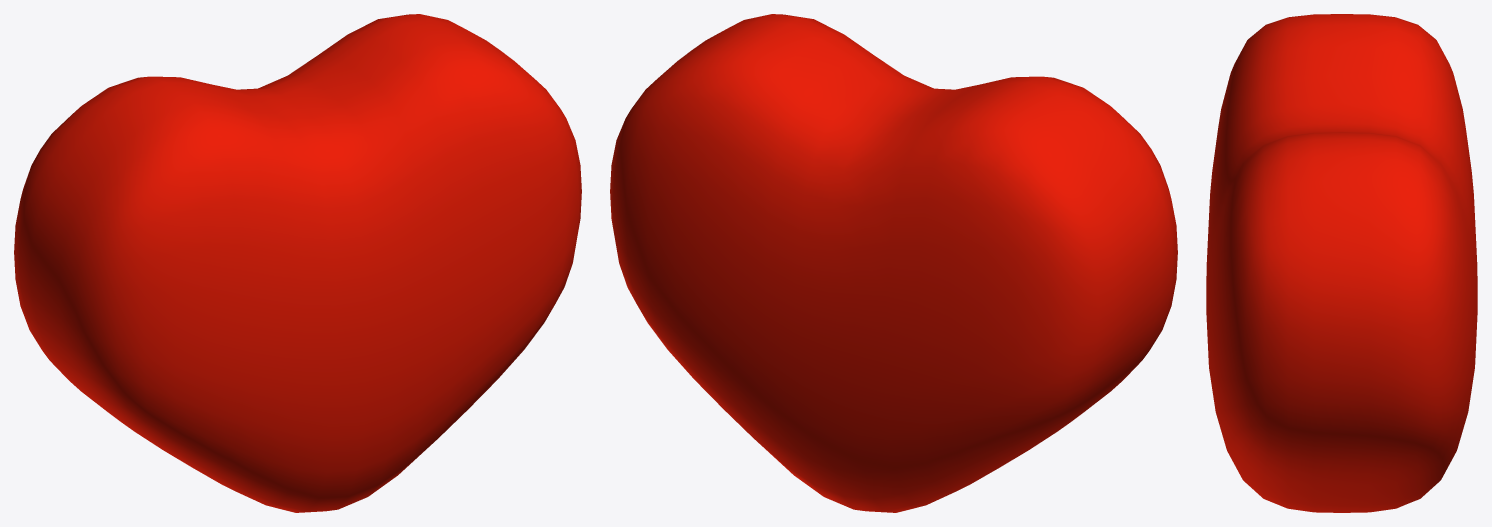
The model's file is heart.fbx.
The picture shows the model from 3 angles, left to right: view 1: azimuth 30°, elevation 25°; view 2: azimuth 150°, elevation 25°; view 3: azimuth 270°, elevation 25°; orthographic projection. The views are drawn at different scales.
Visible parts, largest first — view 1: Cube; view 2: Cube; view 3: Cube.
Boxes of the visible parts, x1=… form: Cube: x1=14, y1=14, x2=581, y2=512; Cube: x1=610, y1=14, x2=1177, y2=512; Cube: x1=1206, y1=14, x2=1477, y2=512.
Size of the model in its own units: 212 by 172 by 100.
